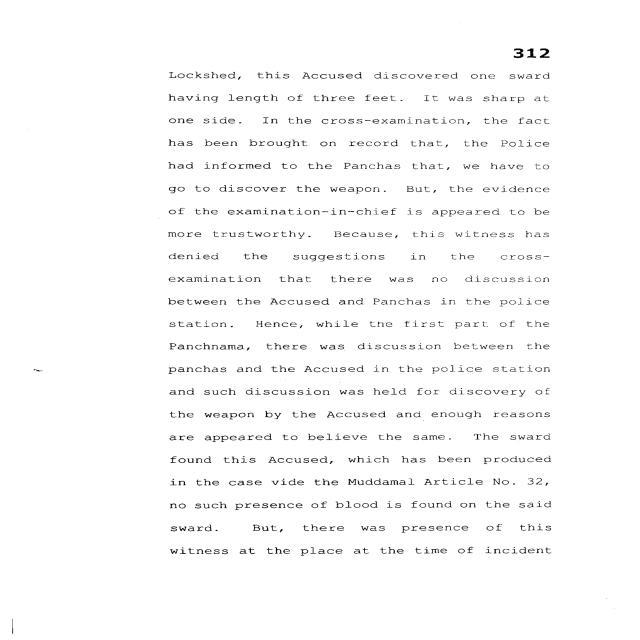page-number: (433, 1, 632, 66)
